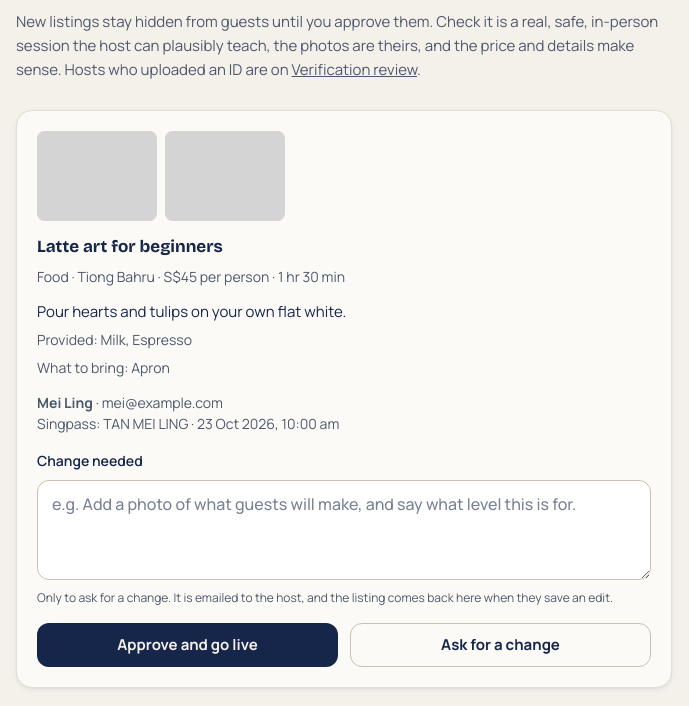
Scenario: AdminListings › approves a listing and takes it off the queue
(page scrolled)
Expected: the text "Latte art for beginners" is shown, [37,236,223,257]
Click the button "Approve and go live".
click(188, 645)  # box [37,623,338,667]
(page scrolled)
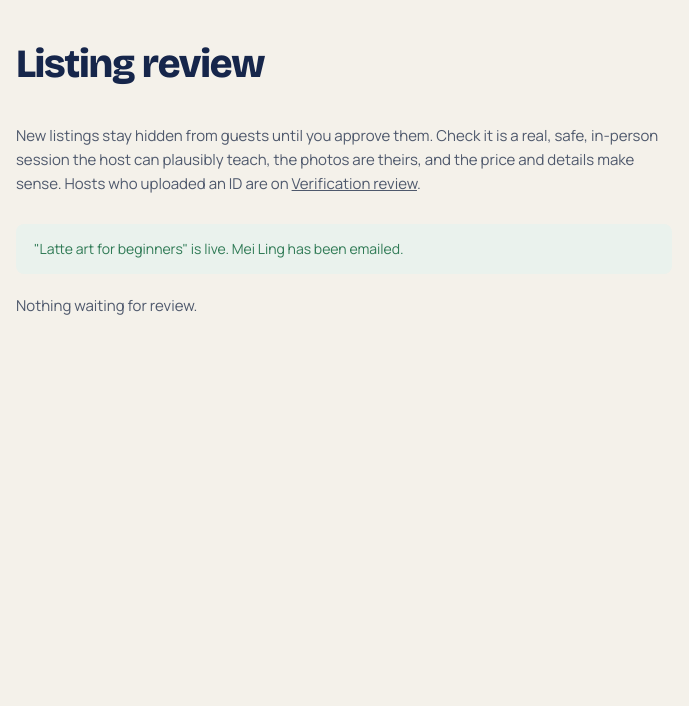
Result: the text "\"Latte art for beginners\" is live. Mei Ling has been emailed." is shown at [16,224,672,274]
Result: the button "Approve and go live" is gone
